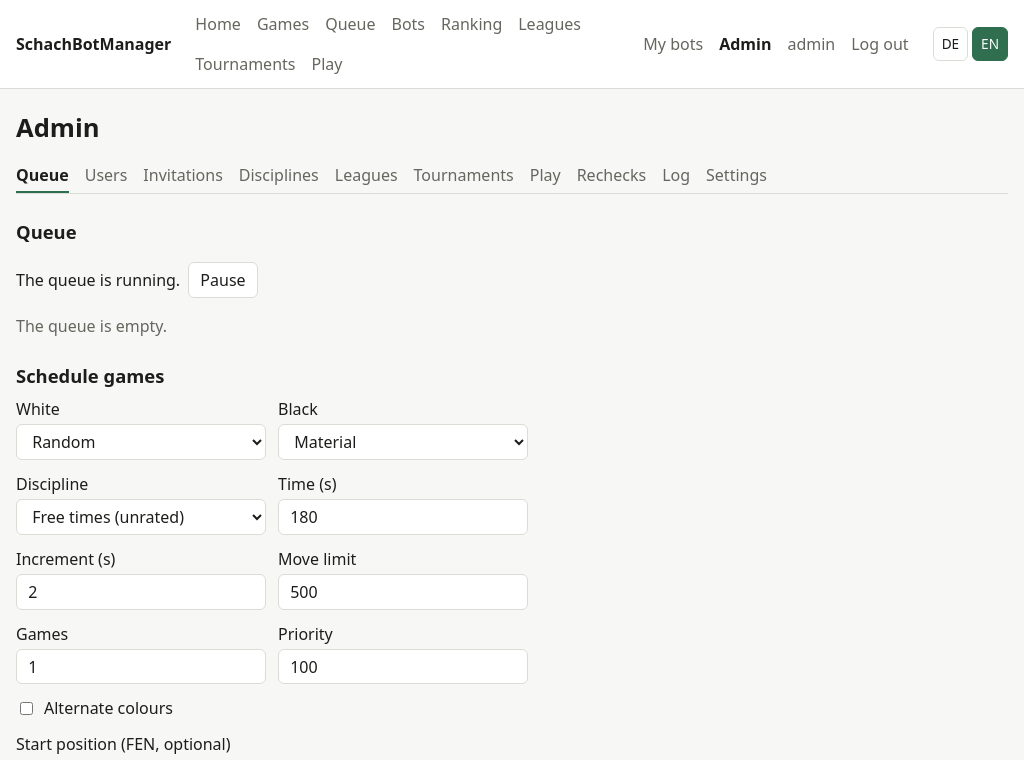
admin games › pauses and resumes the queue
Check: the text "The queue is running." is shown, box [16,268,180,292]
Click the button "Pause": coordinates (223, 280) [188,262,258,298]
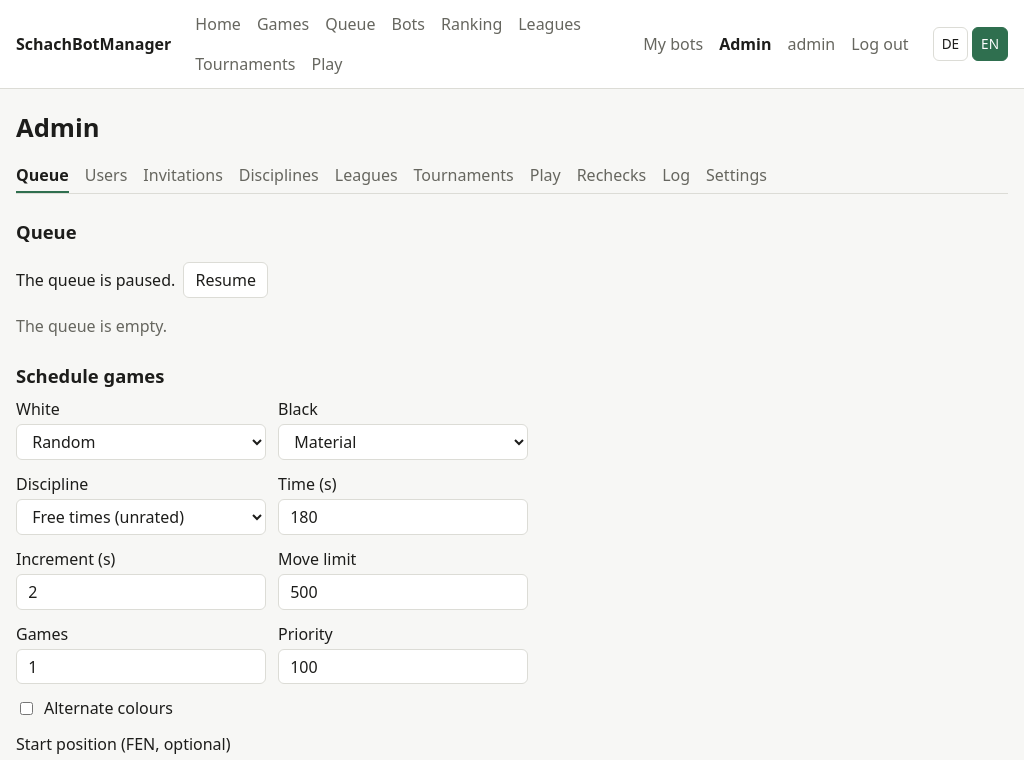
Check: the text "The queue is paused." is shown, box [16,268,175,292]
Click the button "Resume": coordinates (226, 280) [183,262,268,298]
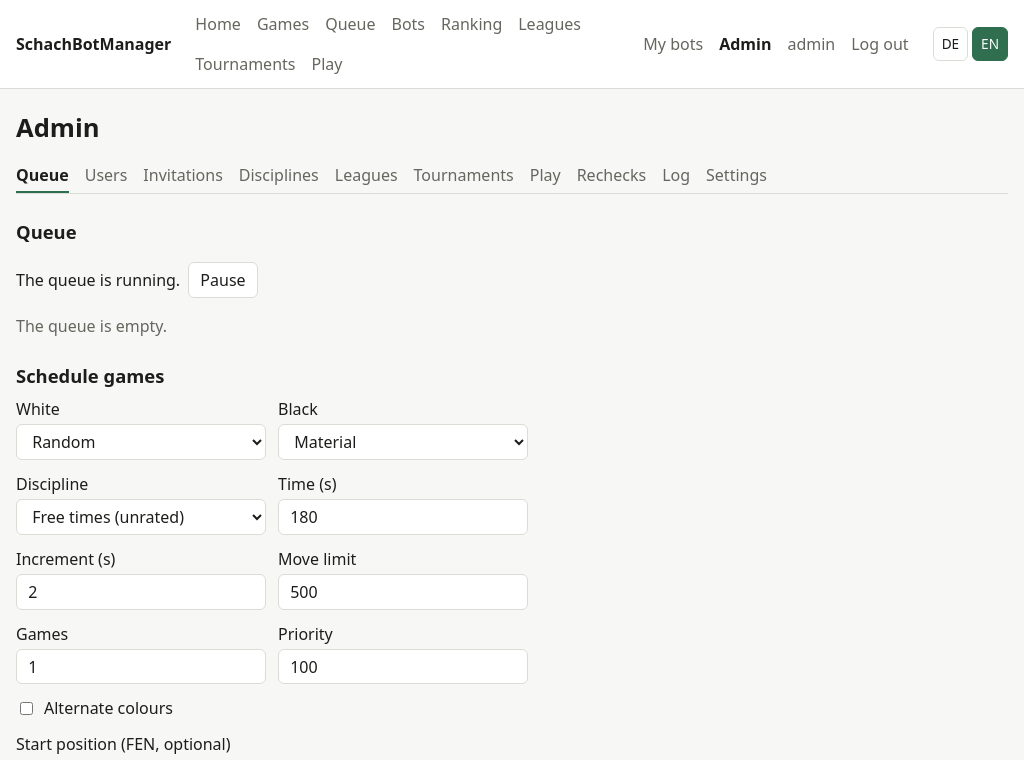
Check: the text "The queue is running." is shown, box [16,268,180,292]
